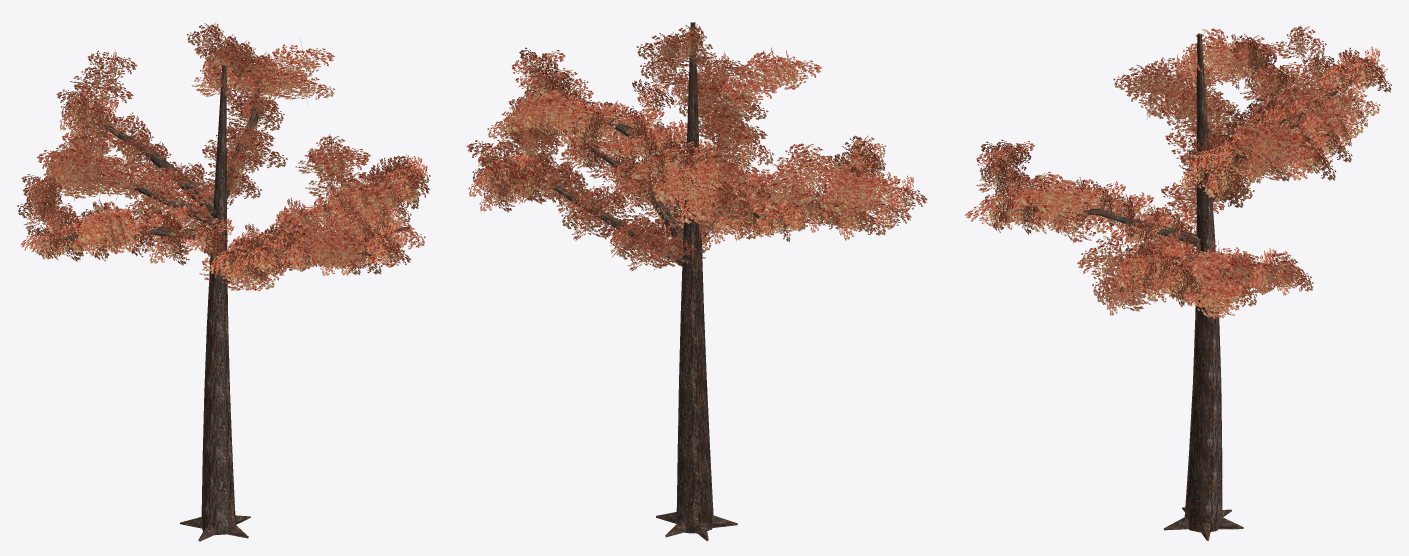
File: tree_3d_03_copper_lod1.glb
3 views of the same model, side by side, from view 1: azimuth 30°, elevation 25°; view 2: azimuth 150°, elevation 25°; view 3: azimuth 270°, elevation 25° (orthographic). The views are drawn at different scales.
Visible parts, largest first — view 1: foliage_cards, wood_geometry; view 2: foliage_cards, wood_geometry; view 3: foliage_cards, wood_geometry.
Boxes of the visible parts, x1,y1,x2,y2 form: foliage_cards: [17, 22, 430, 291]; wood_geometry: [54, 65, 410, 541]; foliage_cards: [466, 24, 927, 271]; wood_geometry: [539, 22, 885, 541]; foliage_cards: [964, 25, 1391, 318]; wood_geometry: [1005, 34, 1352, 540].
Bounding box in the file's own units: 9.89 × 10.63 × 8.38.
2 materials, 2 textured.
